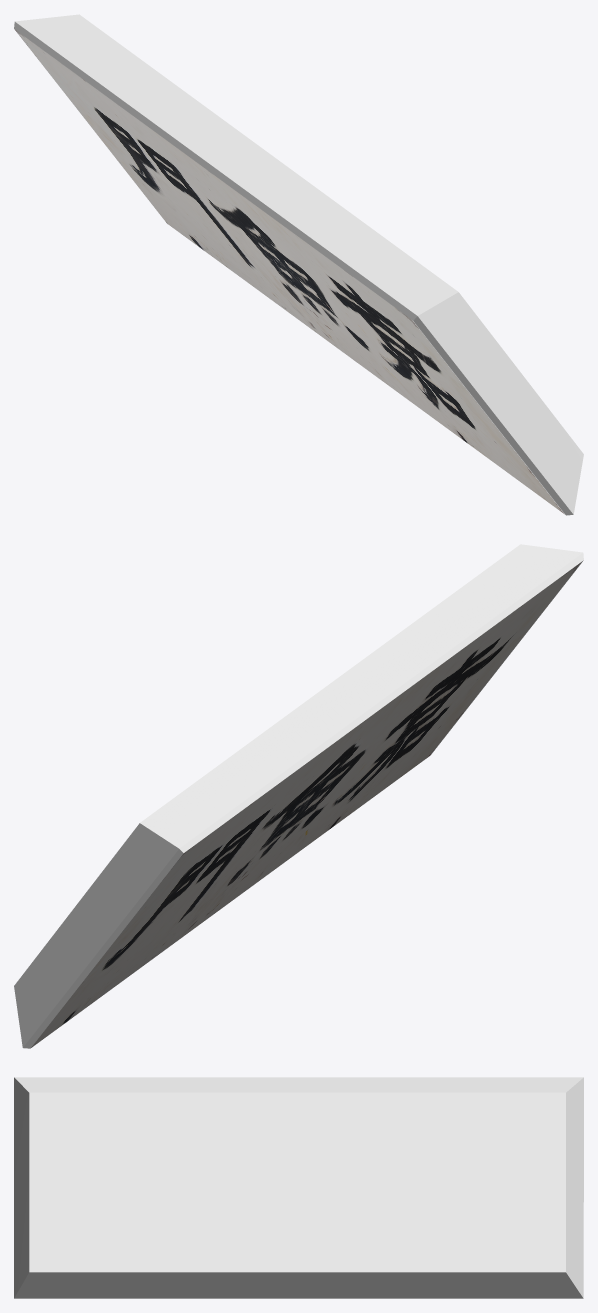
The model's file is SM_R_Sign_GO.fbx.
3 renders of one model, top to bottom at view 1: azimuth 30°, elevation 25°; view 2: azimuth 150°, elevation 25°; view 3: azimuth 270°, elevation 25°, orthographic. The views are drawn at different scales.
Visible parts, largest first — view 1: SM_R_Sign_GO; view 2: SM_R_Sign_GO; view 3: SM_R_Sign_GO.
Part boxes in pixels (box(x1,y1,x2,y2)): SM_R_Sign_GO: box(14, 14, 583, 515); SM_R_Sign_GO: box(14, 544, 583, 1048); SM_R_Sign_GO: box(14, 1077, 583, 1298).
Bounding box in the file's own units: 25.24 × 97.85 × 32.3.
1 material, 1 textured.
